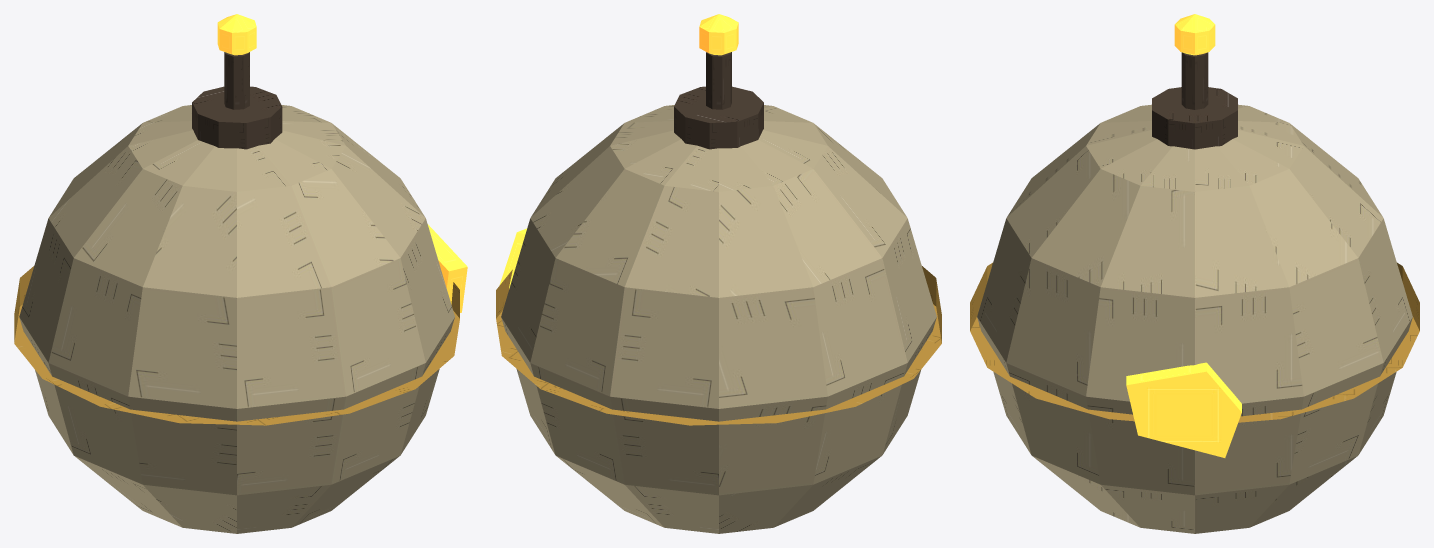
File: haze.glb
3 renders of one model, left to right at view 1: azimuth 30°, elevation 25°; view 2: azimuth 150°, elevation 25°; view 3: azimuth 270°, elevation 25°, orthographic.
Visible parts, largest first — view 1: body, fuse; view 2: body, fuse; view 3: body, fuse.
Boxes of the visible parts, bbox=[...] form: body: bbox=[14, 86, 467, 533]; fuse: bbox=[217, 14, 256, 109]; body: bbox=[496, 86, 941, 533]; fuse: bbox=[699, 14, 738, 109]; body: bbox=[970, 87, 1419, 533]; fuse: bbox=[1174, 14, 1215, 109].
Bounding box in the file's own units: 0.2694 × 0.3294 × 0.2683.
Materials: 4 (4 with a texture image).
